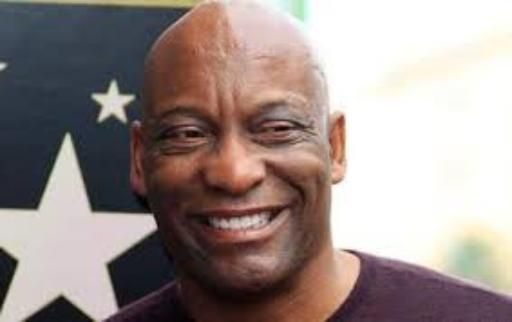left_eye: (257, 124, 312, 137)
left_lip_corner: (281, 200, 302, 216)
right_eye: (160, 127, 211, 143)
right_lip_corner: (187, 210, 210, 224)
